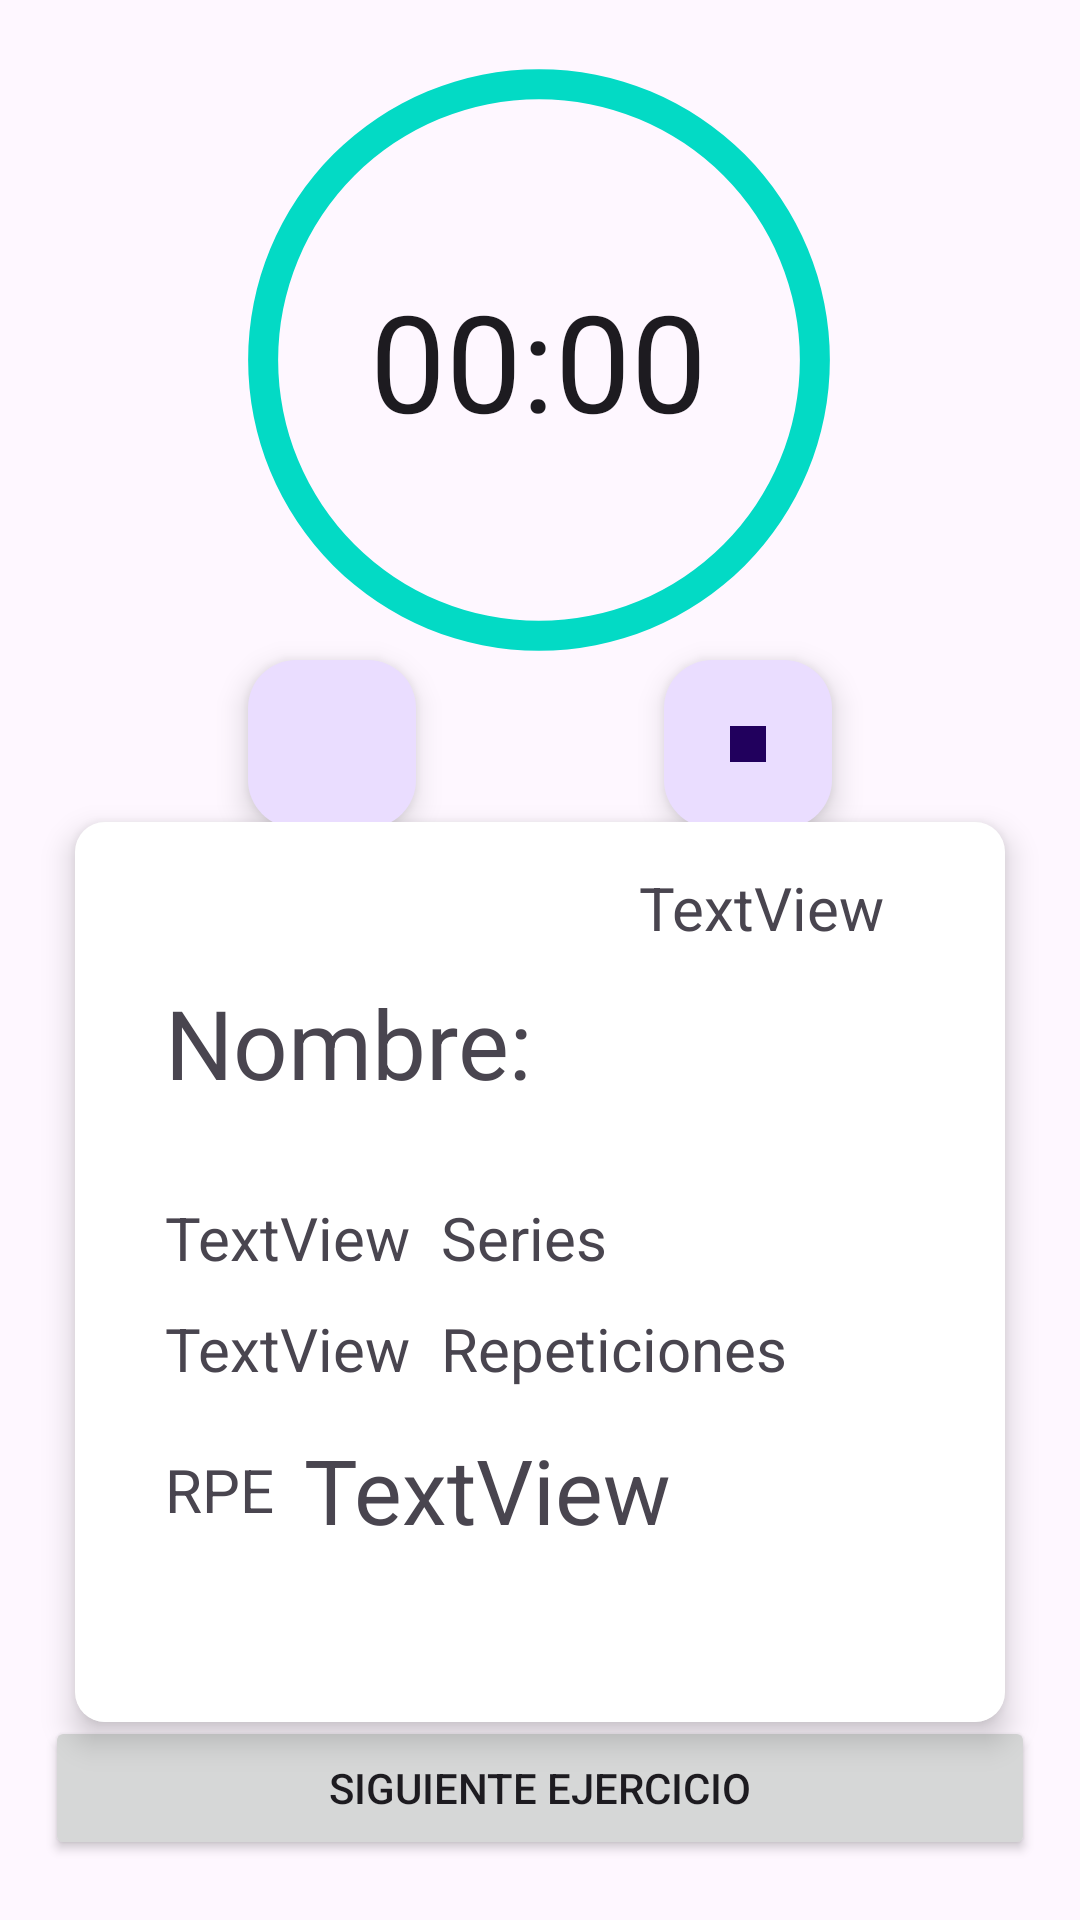

Named icons in this screenshot (1080x1920) and their centers, point (x, y):
Stop: point (748, 741)
